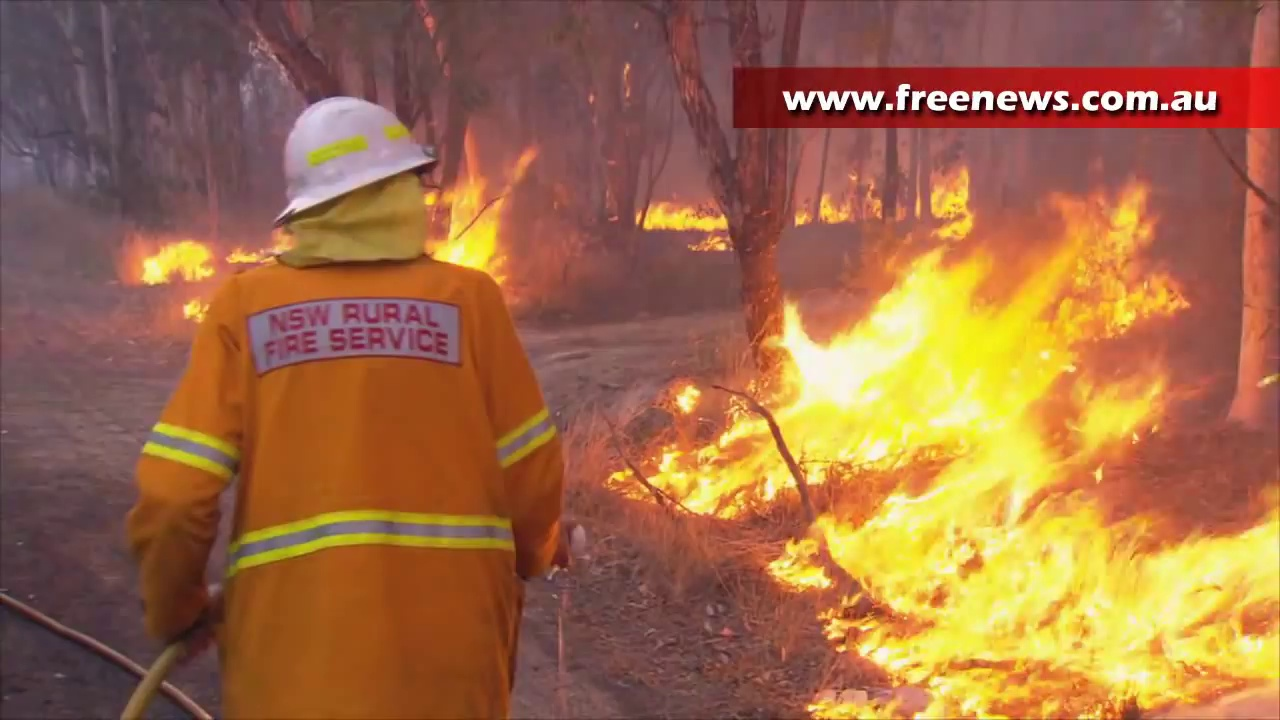fire: (653, 184, 1174, 514), (771, 493, 1280, 720), (451, 192, 496, 269), (931, 170, 975, 239), (146, 242, 211, 283), (640, 207, 728, 230), (181, 297, 207, 324), (821, 196, 845, 223), (226, 246, 264, 263)
